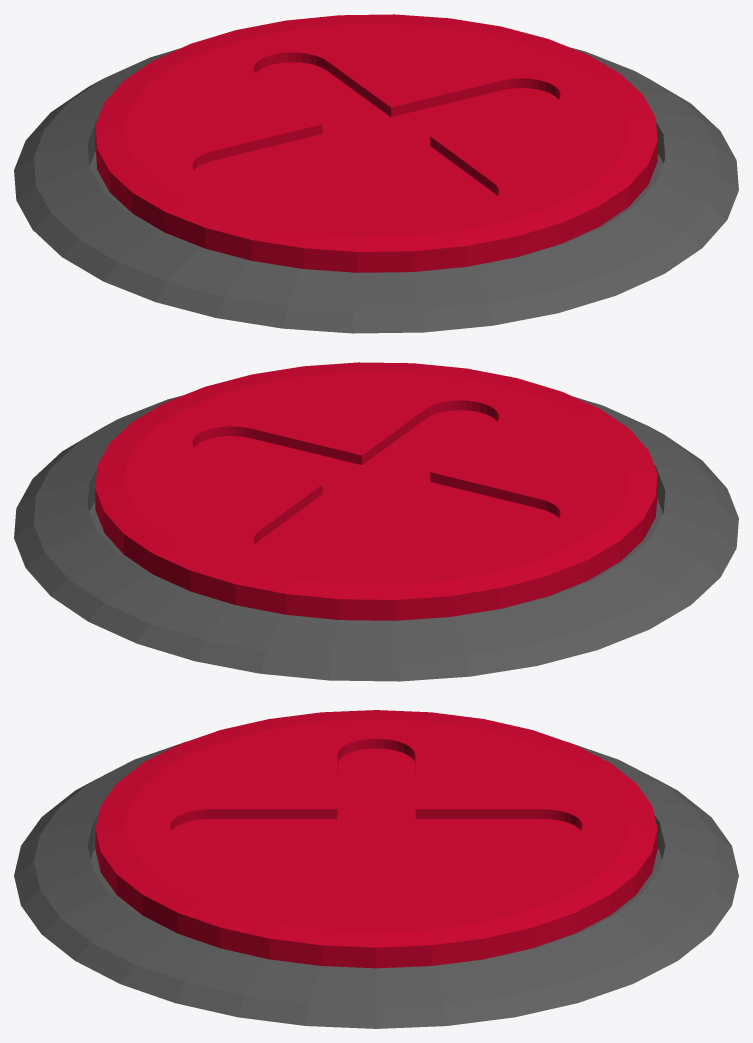
Rendered from props.fbx_b11.fbx.
3 views of the same model, one above another, from view 1: azimuth 30°, elevation 25°; view 2: azimuth 150°, elevation 25°; view 3: azimuth 270°, elevation 25° (orthographic).
Visible parts, largest first — view 1: Circle.012, Circle.013; view 2: Circle.012, Circle.013; view 3: Circle.012, Circle.013.
Part boxes in pixels (x1=…): Circle.012: x1=95, y1=14, x2=657, y2=272; Circle.013: x1=14, y1=47, x2=738, y2=333; Circle.012: x1=95, y1=362, x2=657, y2=620; Circle.013: x1=14, y1=395, x2=738, y2=681; Circle.012: x1=95, y1=710, x2=657, y2=968; Circle.013: x1=14, y1=742, x2=738, y2=1028.
Bounding box in the file's own units: 1.11 × 0.0842 × 1.11.
